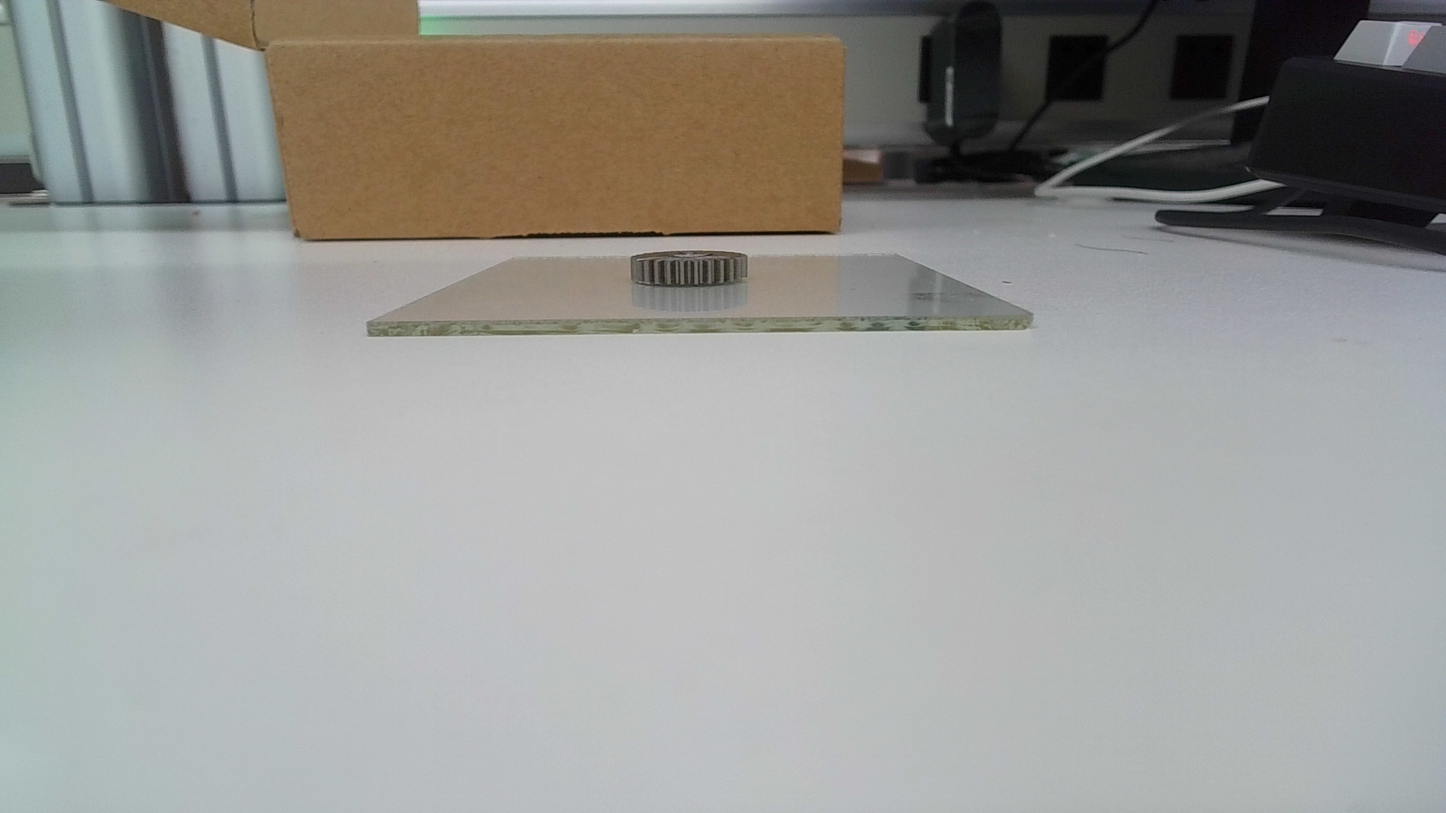gear: (629, 250, 751, 288)
